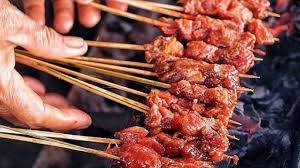sate: (89, 1, 287, 168)
